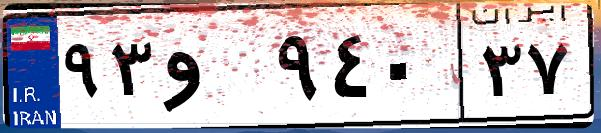0: (385, 28, 445, 110)
3: (475, 38, 525, 113), (110, 28, 158, 98)
4: (330, 28, 385, 110)
7: (525, 38, 570, 115)
9: (270, 28, 330, 110), (57, 26, 110, 100)
و: (158, 20, 270, 120)
